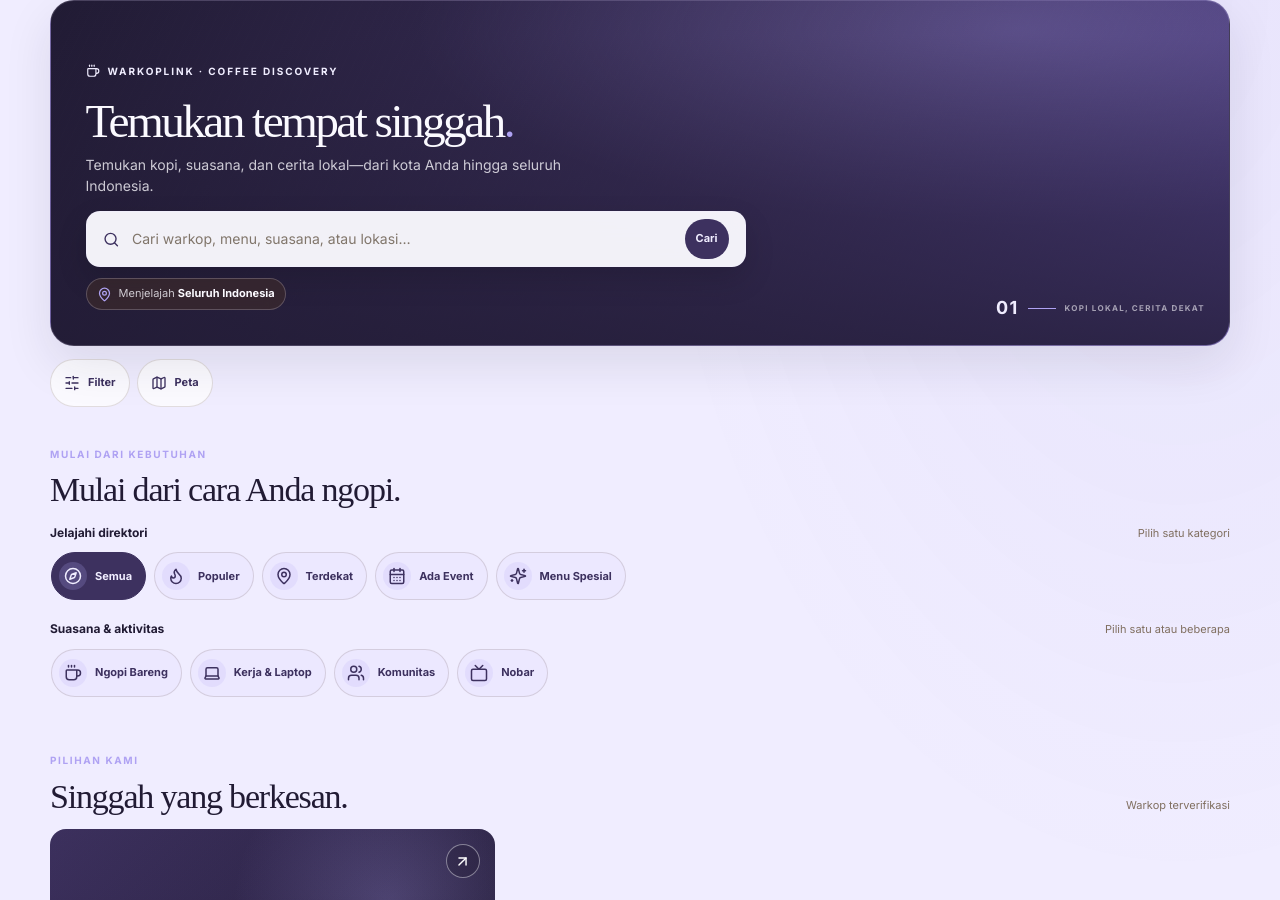
Test: kartu direktori warkop › tidak menampilkan seluruh direktori sebagai hasil Terdekat ketika izin GPS ditolak
Step 1. Click the button "Terdekat" → (314, 576), box [262,552,367,600]
(page scrolled)
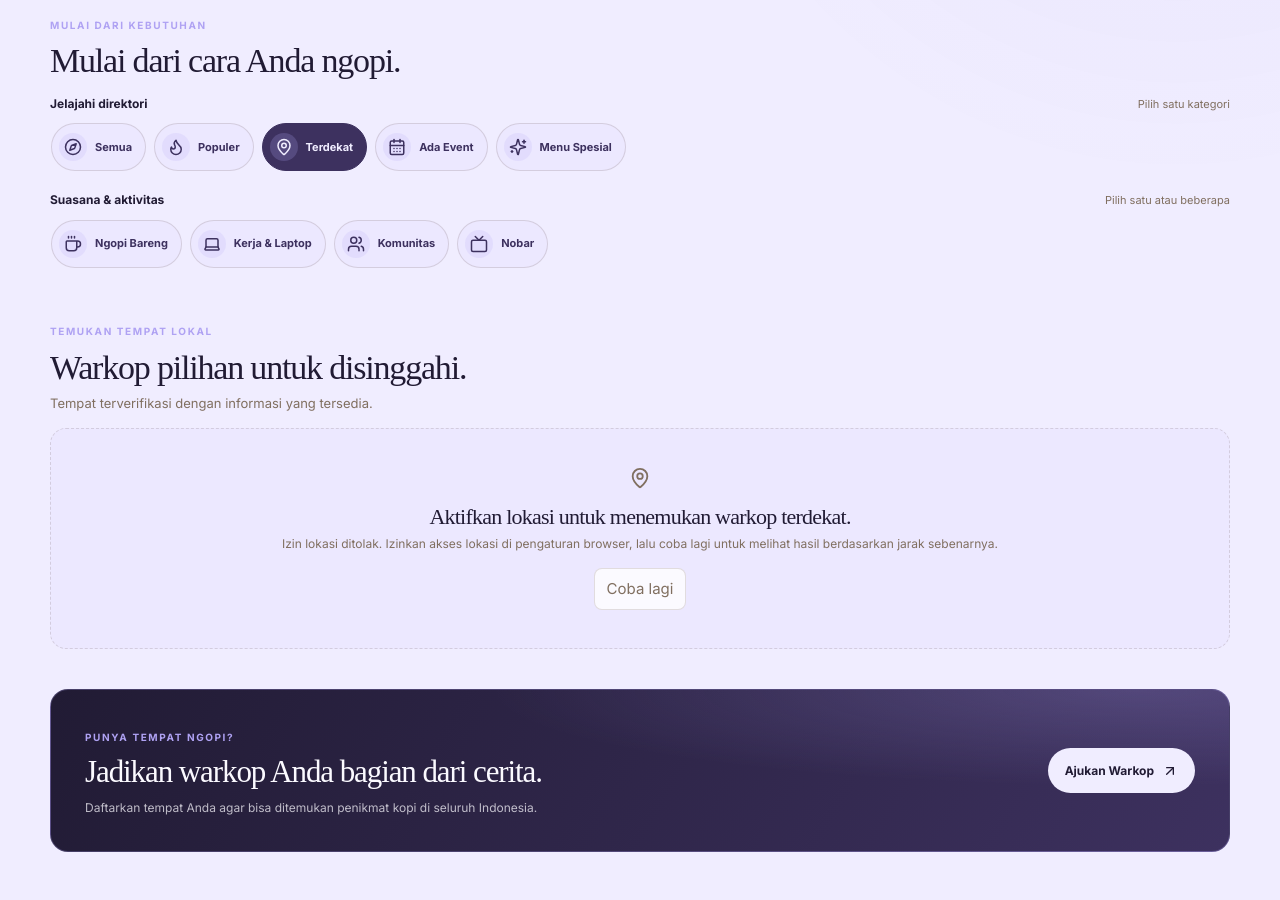
Now the heading "Aktifkan lokasi untuk menemukan warkop terdekat." is shown, box [429,504,851,529]
